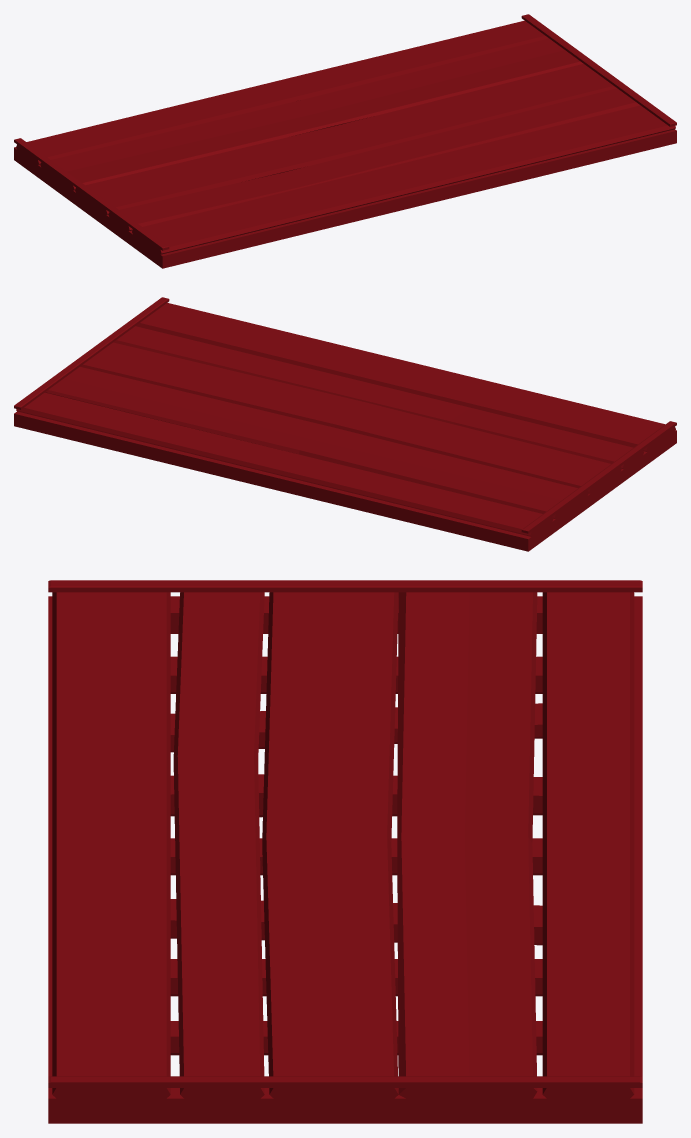
Rendered from SM_MH_01_Wood_Floor_01_Half_01.fbx.
The picture shows the model from 3 angles, top to bottom: view 1: azimuth 30°, elevation 25°; view 2: azimuth 150°, elevation 25°; view 3: azimuth 270°, elevation 25°; orthographic projection. The views are drawn at different scales.
Visible parts, largest first — view 1: SM_MH_01_Wood_Floor_01_Half_01_LOD0; view 2: SM_MH_01_Wood_Floor_01_Half_01_LOD0; view 3: SM_MH_01_Wood_Floor_01_Half_01_LOD0.
Part boxes in pixels (x1,y1,x2,y2): SM_MH_01_Wood_Floor_01_Half_01_LOD0: (14, 14, 676, 268); SM_MH_01_Wood_Floor_01_Half_01_LOD0: (14, 297, 676, 551); SM_MH_01_Wood_Floor_01_Half_01_LOD0: (48, 580, 642, 1123).
Size of what is drawn, in the model's own units: 300 by 11.8 by 150.
